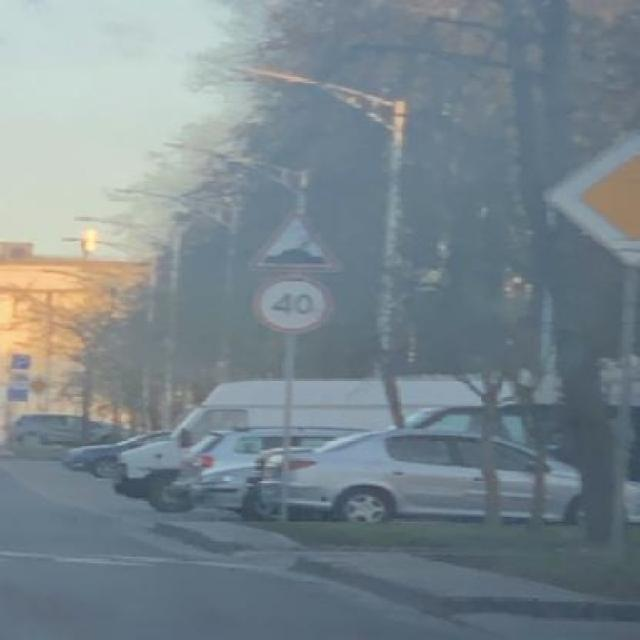forb_speed_over_40: (259, 275, 333, 336)
